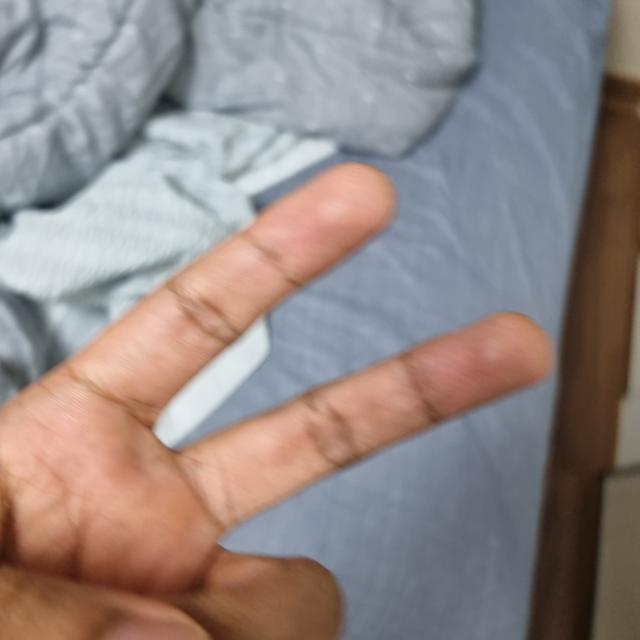Scissors: (0, 165, 544, 638)
